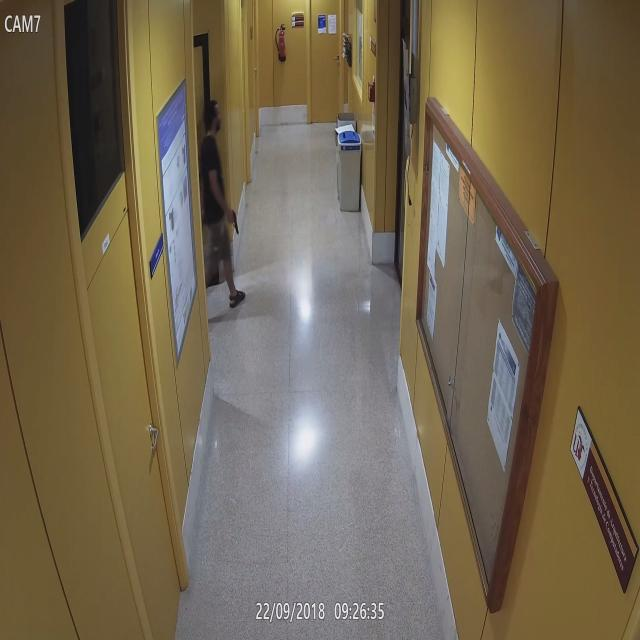Gun: (214, 204, 246, 238)
